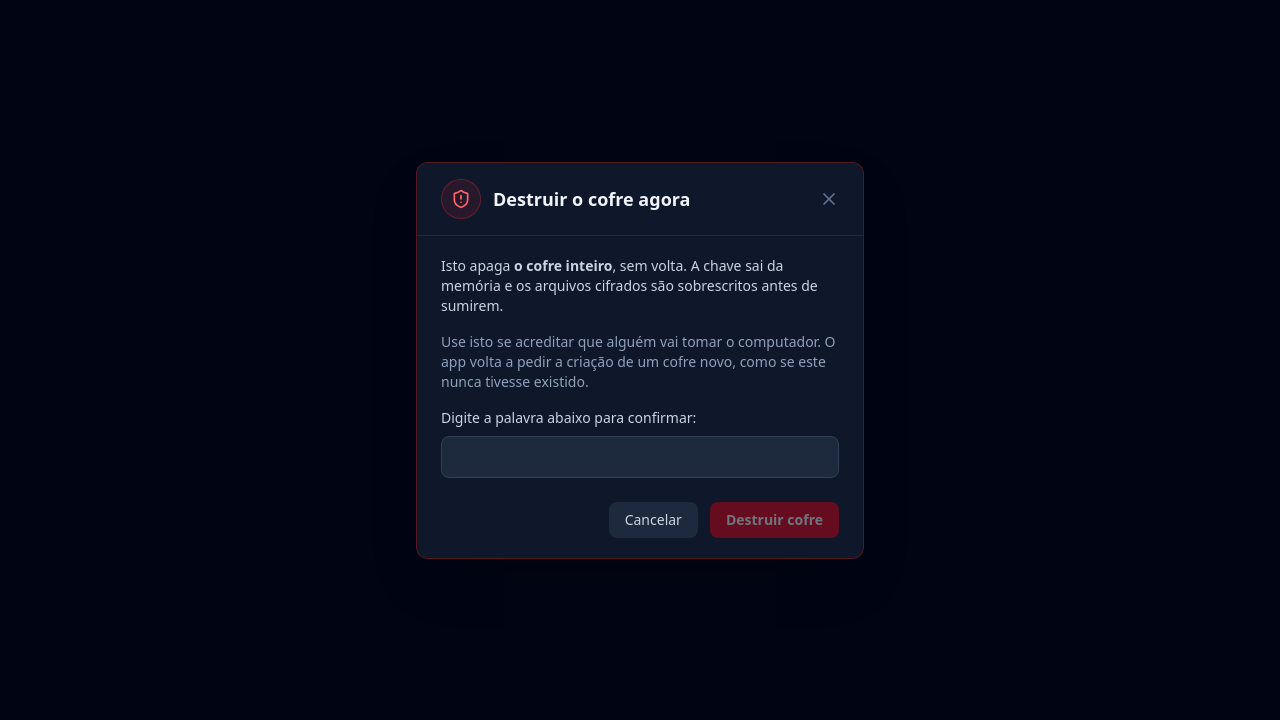
DestroyModal › só libera a ação com a palavra exata
This screenshot has width=1280, height=720.
Type "DESTR" into the field labelled "Digite a palavra abaixo para confirmar:".
click(640, 456); type("DESTR")  # box x1=441 y1=436 x2=839 y2=478
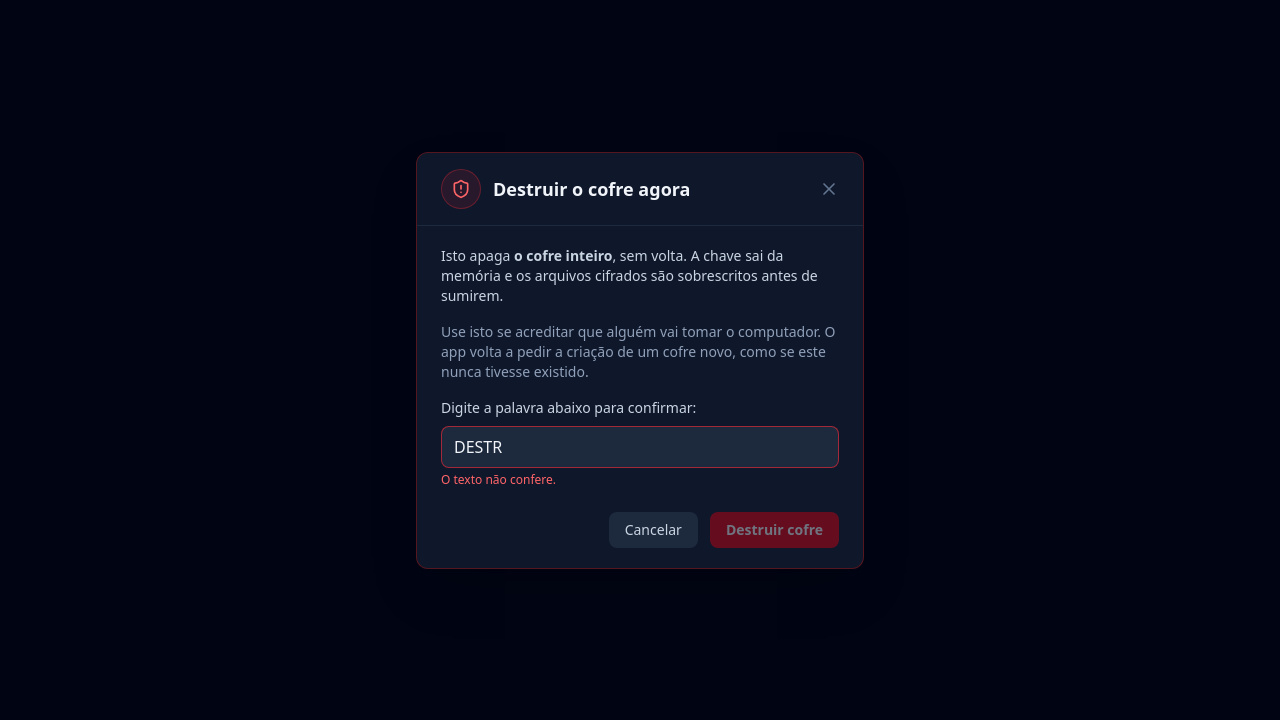
expect the button "Destruir cofre" is disabled: met, box x1=710 y1=512 x2=839 y2=548
expect the text "O texto não confere." is shown: met, box x1=441 y1=470 x2=556 y2=488
Clear the field labelled "Digite a palavra abaixo para confirmar:" at (640, 446), box x1=441 y1=426 x2=839 y2=468
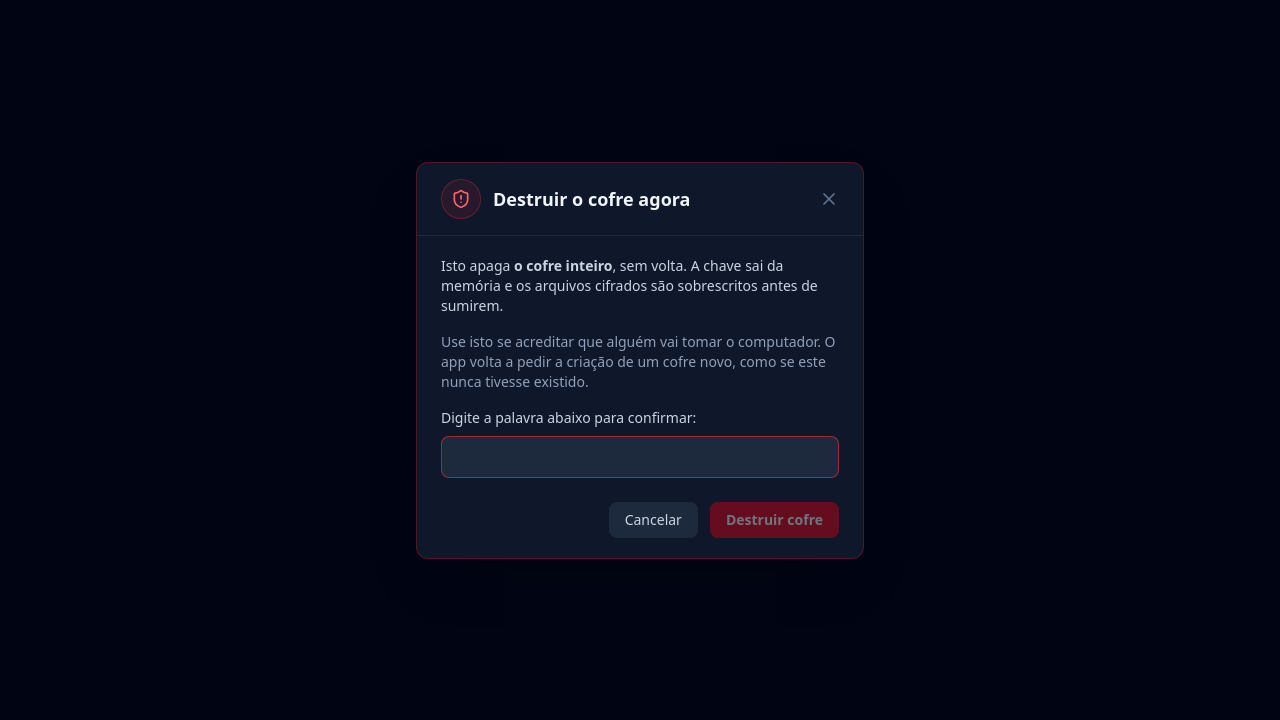
Type "DESTRUIR" into the field labelled "Digite a palavra abaixo para confirmar:".
click(640, 456); type("DESTRUIR")  # box x1=441 y1=436 x2=839 y2=478
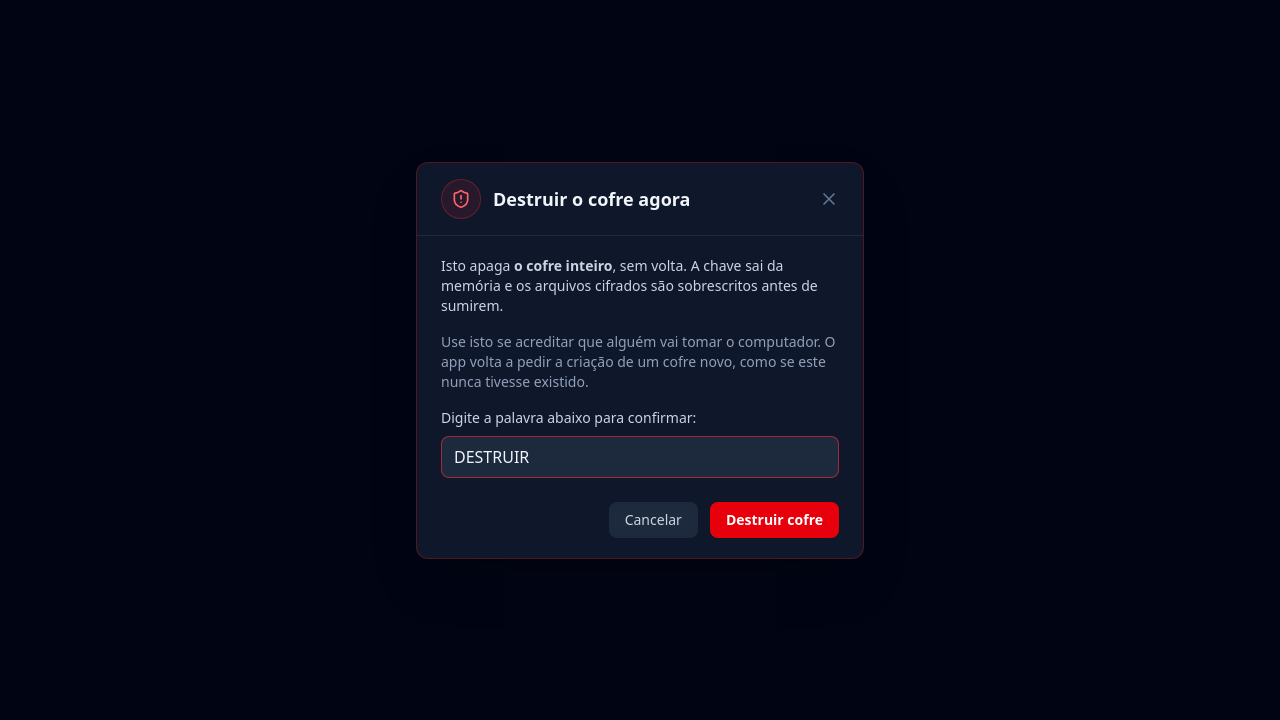
expect the text "O texto não confere." is not shown: met
expect the button "Destruir cofre" is enabled: met, box x1=710 y1=502 x2=839 y2=538
